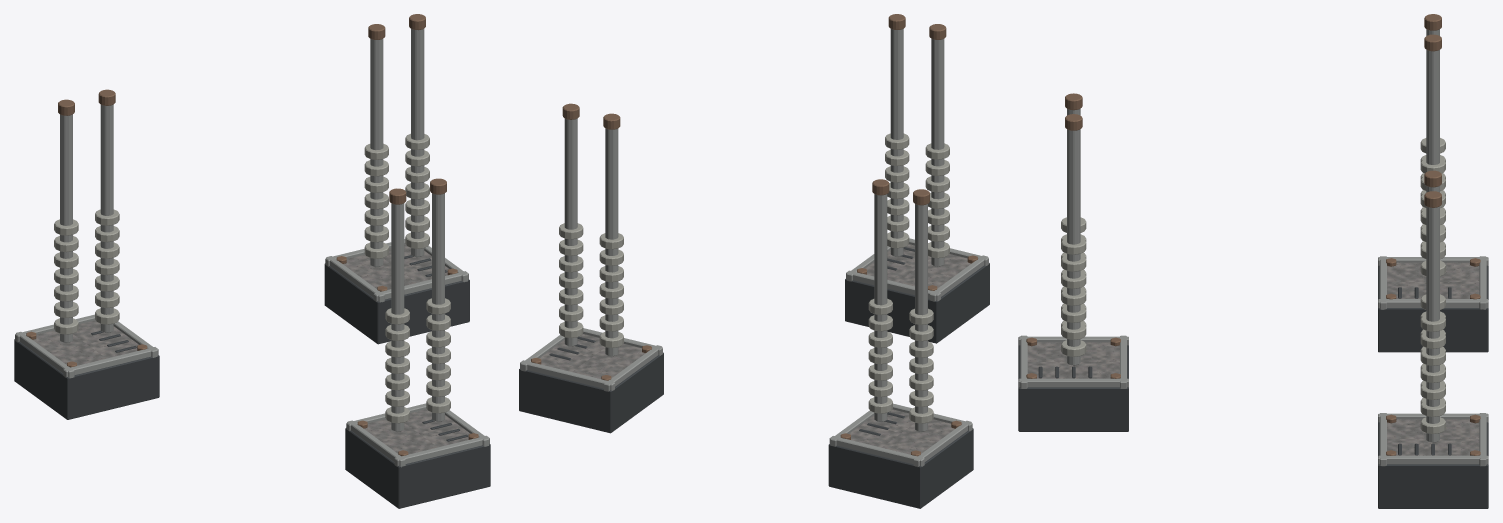
File: arc-towers.glb
3 renders of one model, left to right at view 1: azimuth 30°, elevation 25°; view 2: azimuth 150°, elevation 25°; view 3: azimuth 270°, elevation 25°, orthographic. The views are drawn at different scales.
Parts seen in each view (by area): view 1: arc-towers • editable solid geometry; view 2: arc-towers • editable solid geometry; view 3: arc-towers • editable solid geometry.
Boxes of the visible parts, x1=… form: arc-towers • editable solid geometry: x1=14, y1=14, x2=490, y2=508; arc-towers • editable solid geometry: x1=519, y1=14, x2=989, y2=508; arc-towers • editable solid geometry: x1=1018, y1=14, x2=1488, y2=508.
Bounding box in the file's own units: 4.35 × 3.01 × 4.25.
Materials: 6 (1 with a texture image).
